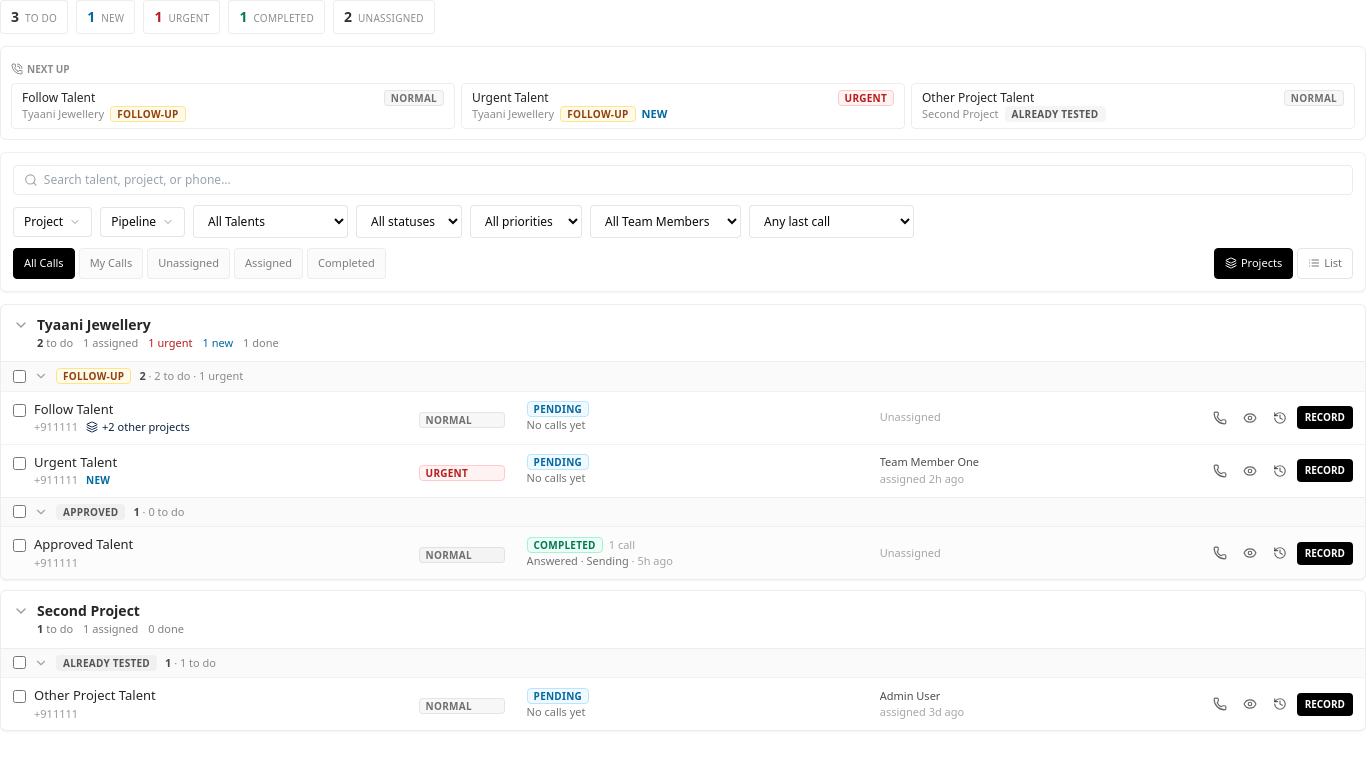
Test case: Calls — recording an outcome › history labels entries that were synced from another project
Click the button named "Call history" in the row of "5h ago". click: (1280, 553)
box: [1267,540,1293,566]
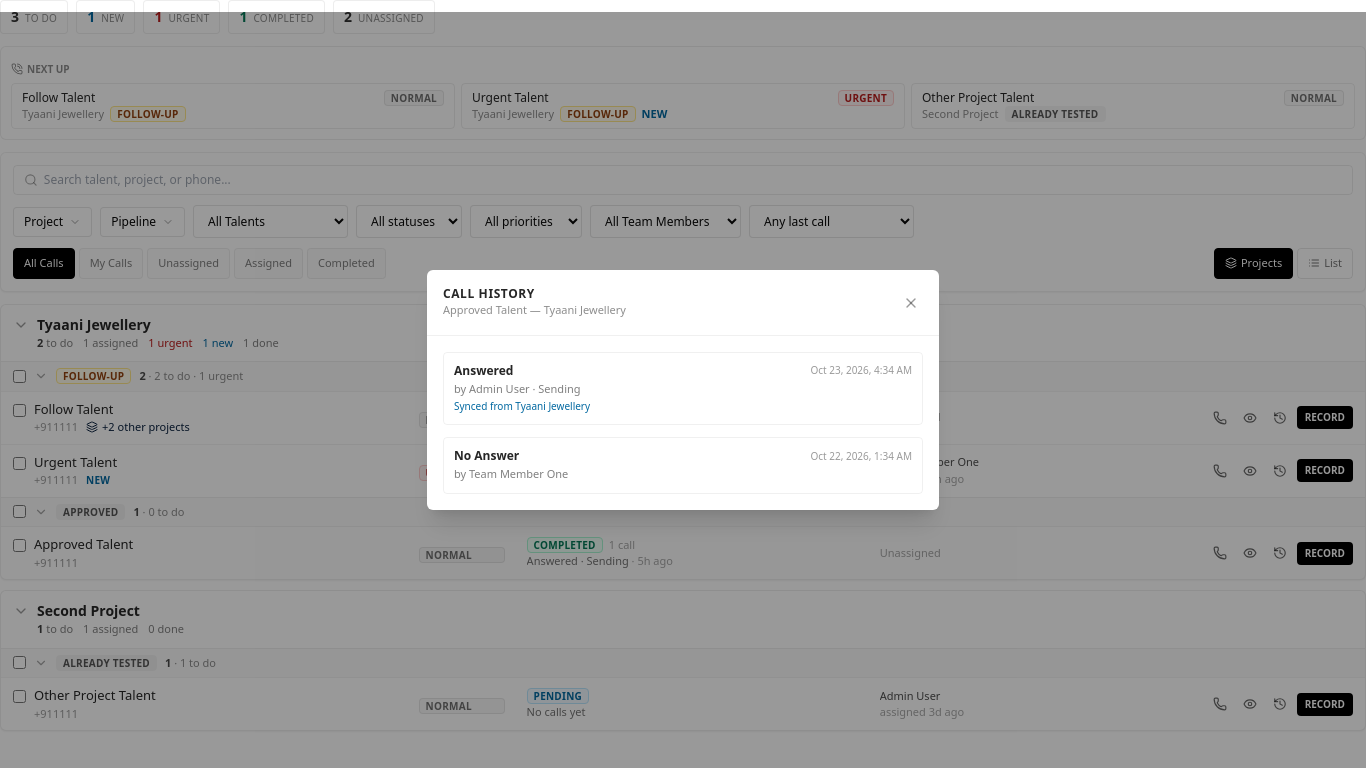
Now the number of elements with test id "history-entry" is 2, box [443,352,923,425]; [443,437,923,494]
Now the text with test id "history-synced" reads "Synced from Tyaani Jewellery", box [454,399,590,413]
